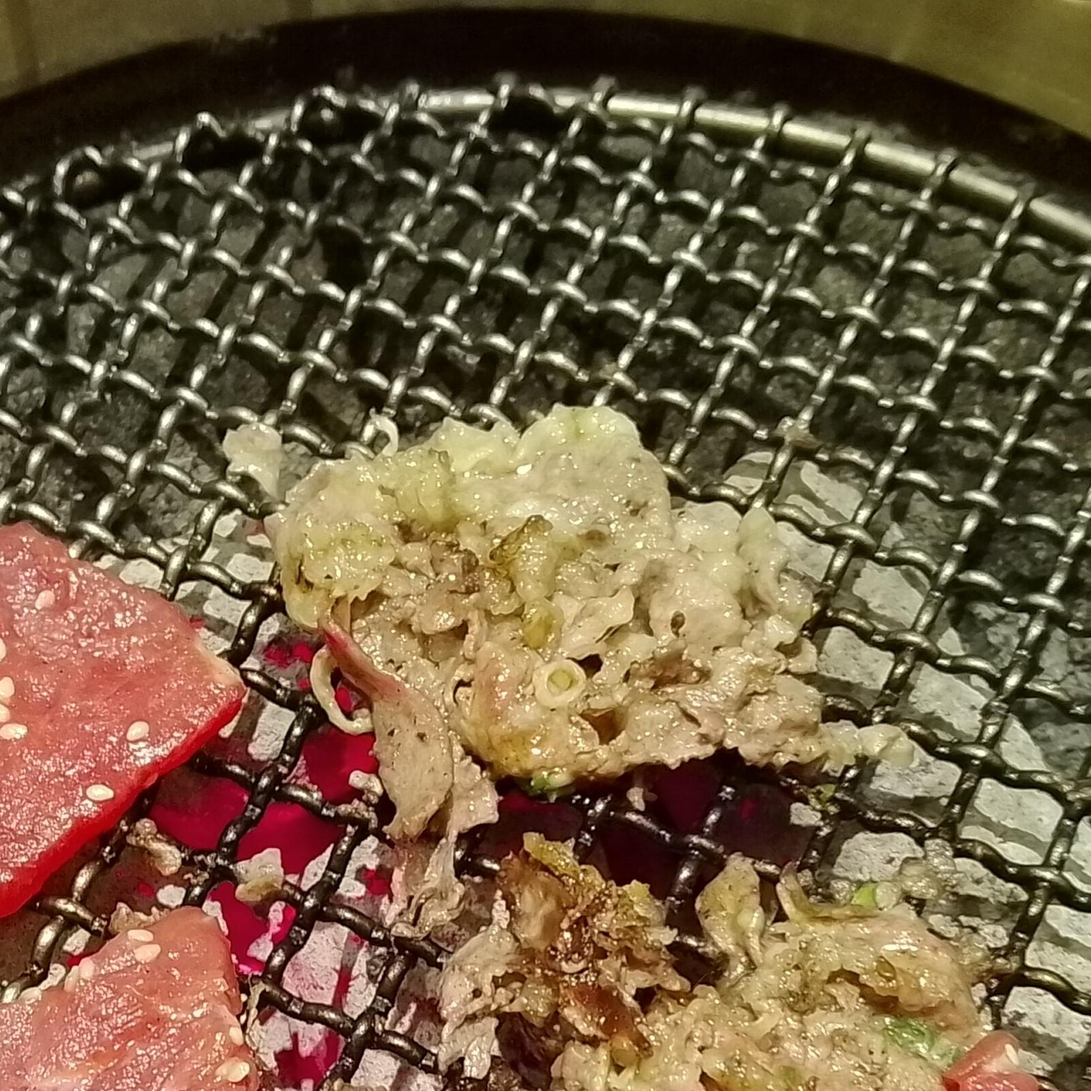Overcooked: (436, 838, 692, 1090)
Undercooked: (0, 526, 243, 924), (0, 912, 267, 1090)
Well-Cooked: (267, 411, 826, 794), (650, 872, 987, 1090)
